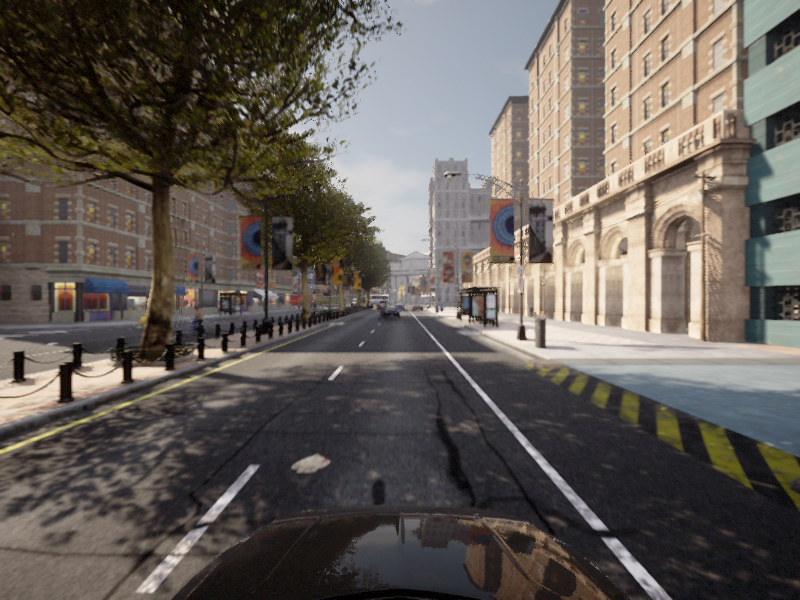vehicle: (1, 1, 799, 599), (132, 305, 167, 330), (181, 306, 210, 336), (378, 305, 400, 318)
